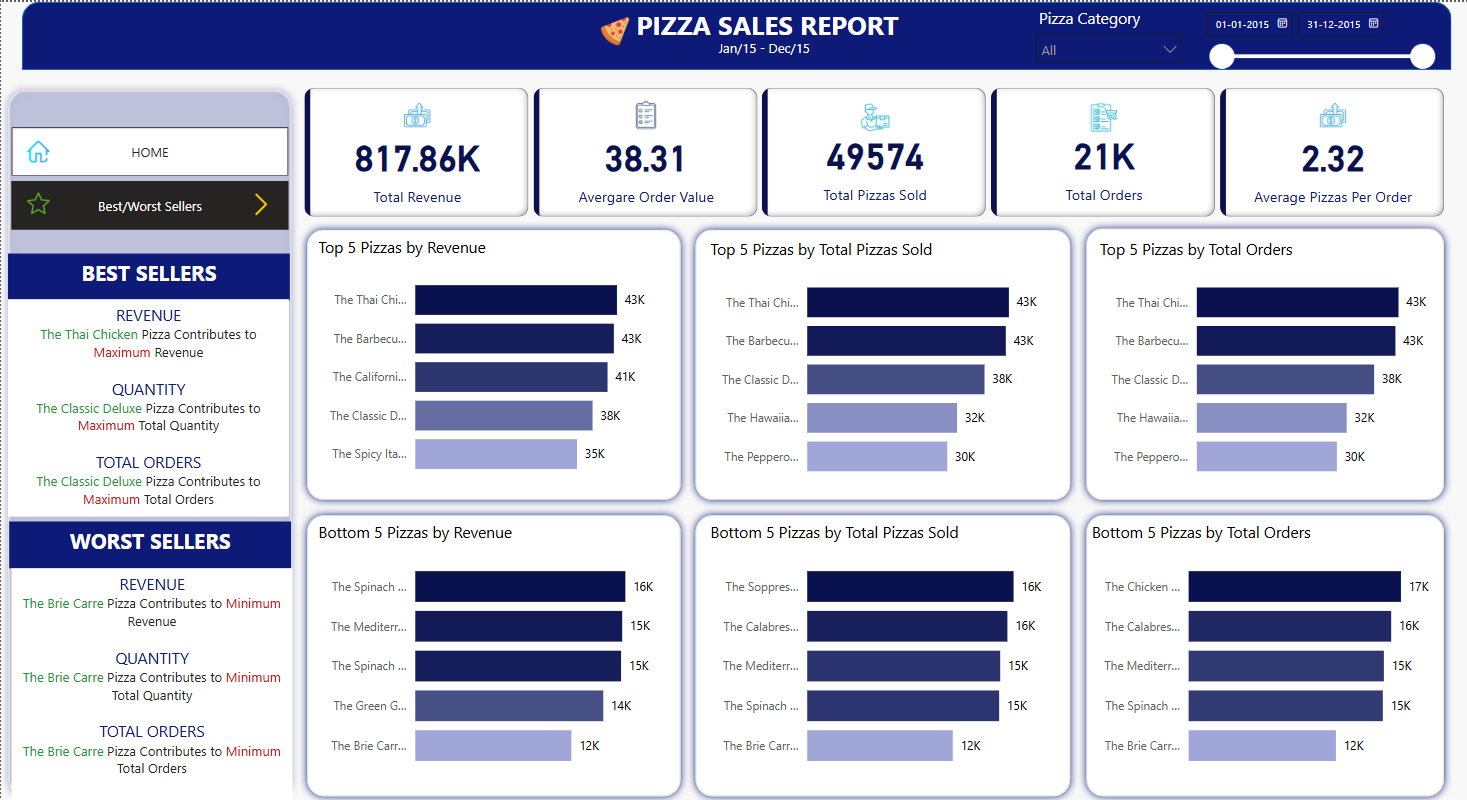

What the dashboard file says about the page in this screenshot:
{"tool":"powerbi","page":{"name":"Best/Worst Sellers","canvas":[1500,820],"ordinal":1},"visuals":[{"type":"cardVisual","fields":{"Data":["pizza_sales.Total Revenue","pizza_sales.Avergare Order Value","pizza_sales.Total Pizzas Sold","pizza_sales.Total Orders","pizza_sales.Average Pizzas Per Order"]},"box":[304.4,82,1177.8,142.9],"z":0},{"type":"shape","box":[21.1,0,1461.1,69.6],"z":1000},{"type":"textbox","box":[632.4,0,301.9,46],"z":2000},{"type":"textbox","box":[728.1,32.3,114.3,34.8],"z":3000},{"type":"image","box":[607.5,5,39.8,49.7],"z":4000},{"type":"shape","box":[304.4,224.9,397.6,292],"z":5000},{"type":"shape","box":[0,82,304.4,738],"z":6000},{"type":"slicer","fields":{"Values":["pizza_sales.pizza_category"]},"box":[1047.5,0,169.8,69.4],"z":7000},{"type":"slicer","fields":{"Values":["pizza_sales.order_date"]},"box":[1219.7,0,254.7,82.5],"z":8000},{"type":"shape","box":[1100.8,516.8,381.4,303.1],"z":9000},{"type":"shape","box":[702,516.8,398.8,303.1],"z":10000},{"type":"shape","box":[304.4,516.8,397.6,303.1],"z":11000},{"type":"shape","box":[1100.8,223.6,381.4,293.2],"z":12000},{"type":"shape","box":[702,224.9,398.8,292],"z":13000},{"type":"barChart","title":"Top 5 Pizzas by Revenue","fields":{"Category":["pizza_sales.pizza_name"],"Y":["pizza_sales.Total Revenue"]},"box":[319,239.6,363.7,259.8],"z":14000},{"type":"barChart","title":"Bottom 5 Pizzas by Revenue","fields":{"Category":["pizza_sales.pizza_name"],"Y":["pizza_sales.Total Revenue"]},"box":[319,531.1,363.7,267],"z":15000},{"type":"barChart","title":"Top 5 Pizzas by Total Pizzas Sold","fields":{"Category":["pizza_sales.pizza_name"],"Y":["pizza_sales.Total Revenue"]},"box":[720.2,241,363.7,259.8],"z":16000},{"type":"barChart","title":"Bottom 5 Pizzas by Total Pizzas Sold","fields":{"Category":["pizza_sales.pizza_name"],"Y":["pizza_sales.Total Revenue"]},"box":[720.2,531.1,363.7,267],"z":17000},{"type":"barChart","title":"Top 5 Pizzas by Total Orders","fields":{"Category":["pizza_sales.pizza_name"],"Y":["pizza_sales.Total Revenue"]},"box":[1118.5,241,363.7,259.8],"z":18000},{"type":"barChart","title":"Bottom 5 Pizzas by Total Orders","fields":{"Category":["pizza_sales.pizza_name"],"Y":["pizza_sales.Total Revenue"]},"box":[1109.9,531.1,363.7,267],"z":19000},{"type":"pageNavigator","box":[10.8,183,283.4,50.2],"z":20000},{"type":"pageNavigator","box":[10.8,128,283.4,50.2],"z":21000},{"type":"image","box":[247.2,190.1,37.3,33.5],"z":22000},{"type":"image","box":[21.5,188.9,33.5,33.5],"z":23000},{"type":"image","box":[21.5,136.3,33.5,33.5],"z":24000},{"type":"textbox","box":[7.2,257.1,288.2,47.8],"z":25000},{"type":"textbox","box":[7.2,303.7,287,222.4],"z":26000},{"type":"textbox","box":[8.4,530.9,288.2,47.8],"z":27000},{"type":"textbox","box":[10.8,578.8,287,241.6],"z":28000}]}

Visuals, with their boxes in screenshot pixels (x1, y1, x2, y2), scaled from the page's 1500x820 canvas onto the 1467x800 screenshot:
cardVisual - pizza_sales.Total Revenue x pizza_sales.Avergare Order Value: locate(298, 80, 1450, 219)
shape: locate(21, 0, 1450, 68)
textbox: locate(618, 0, 914, 45)
textbox: locate(712, 32, 824, 65)
image: locate(594, 5, 633, 53)
shape: locate(298, 219, 687, 504)
shape: locate(0, 80, 298, 799)
slicer - pizza_sales.pizza_category: locate(1024, 0, 1191, 68)
slicer - pizza_sales.order_date: locate(1193, 0, 1442, 80)
shape: locate(1077, 504, 1450, 799)
shape: locate(687, 504, 1077, 799)
shape: locate(298, 504, 687, 799)
shape: locate(1077, 218, 1450, 504)
shape: locate(687, 219, 1077, 504)
"Top 5 Pizzas by Revenue" barChart: locate(312, 234, 668, 487)
"Bottom 5 Pizzas by Revenue" barChart: locate(312, 518, 668, 779)
"Top 5 Pizzas by Total Pizzas Sold" barChart: locate(704, 235, 1060, 489)
"Bottom 5 Pizzas by Total Pizzas Sold" barChart: locate(704, 518, 1060, 779)
"Top 5 Pizzas by Total Orders" barChart: locate(1094, 235, 1450, 489)
"Bottom 5 Pizzas by Total Orders" barChart: locate(1085, 518, 1441, 779)
pageNavigator: locate(11, 179, 288, 228)
pageNavigator: locate(11, 125, 288, 174)
image: locate(242, 185, 278, 218)
image: locate(21, 184, 54, 217)
image: locate(21, 133, 54, 166)
textbox: locate(7, 251, 289, 297)
textbox: locate(7, 296, 288, 513)
textbox: locate(8, 518, 290, 565)
textbox: locate(11, 565, 291, 799)
